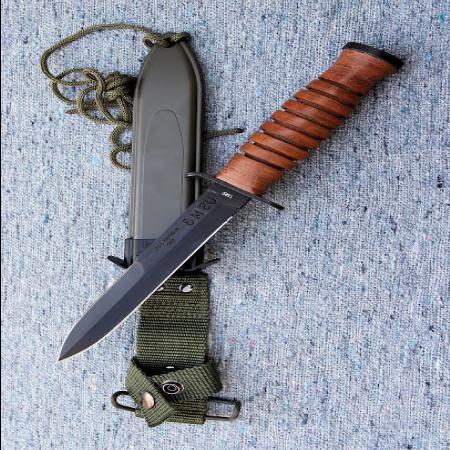long weapon: (48, 180, 250, 364)
